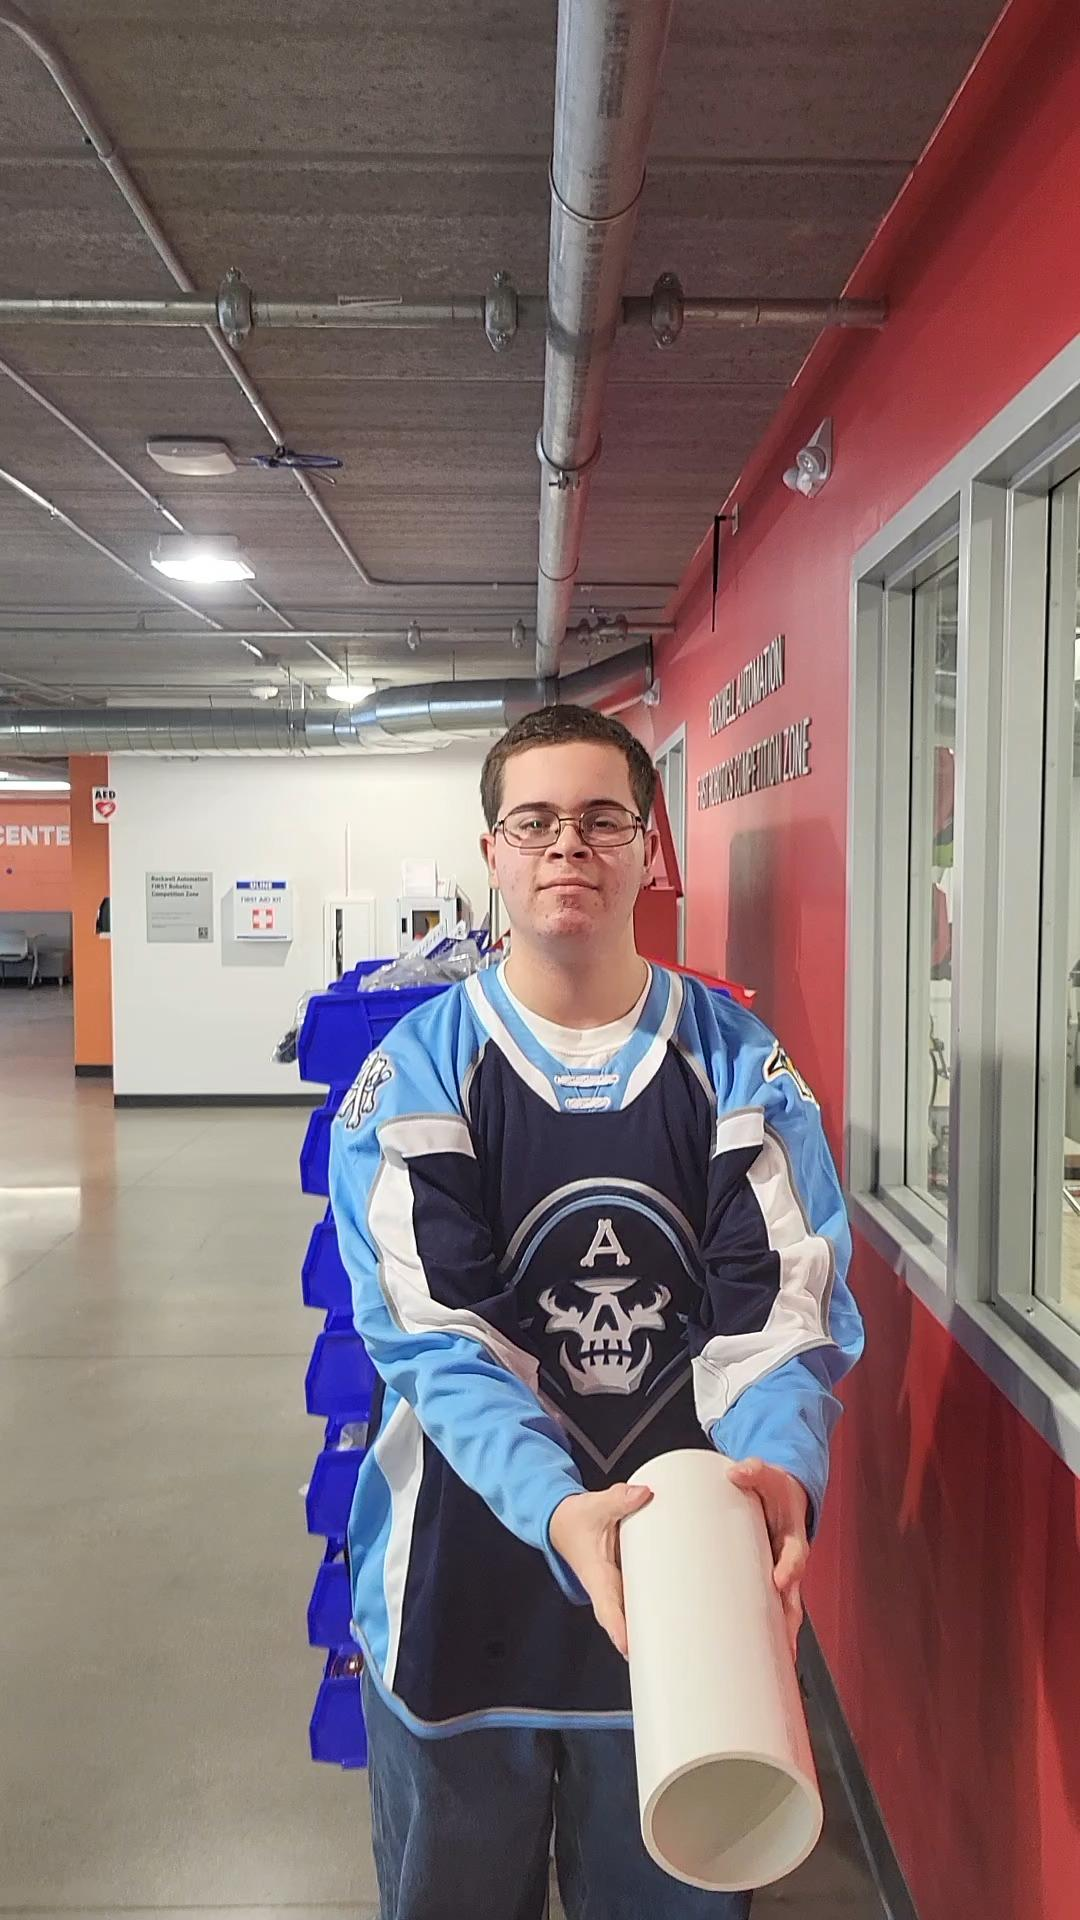coral: (607, 1444, 836, 1894)
